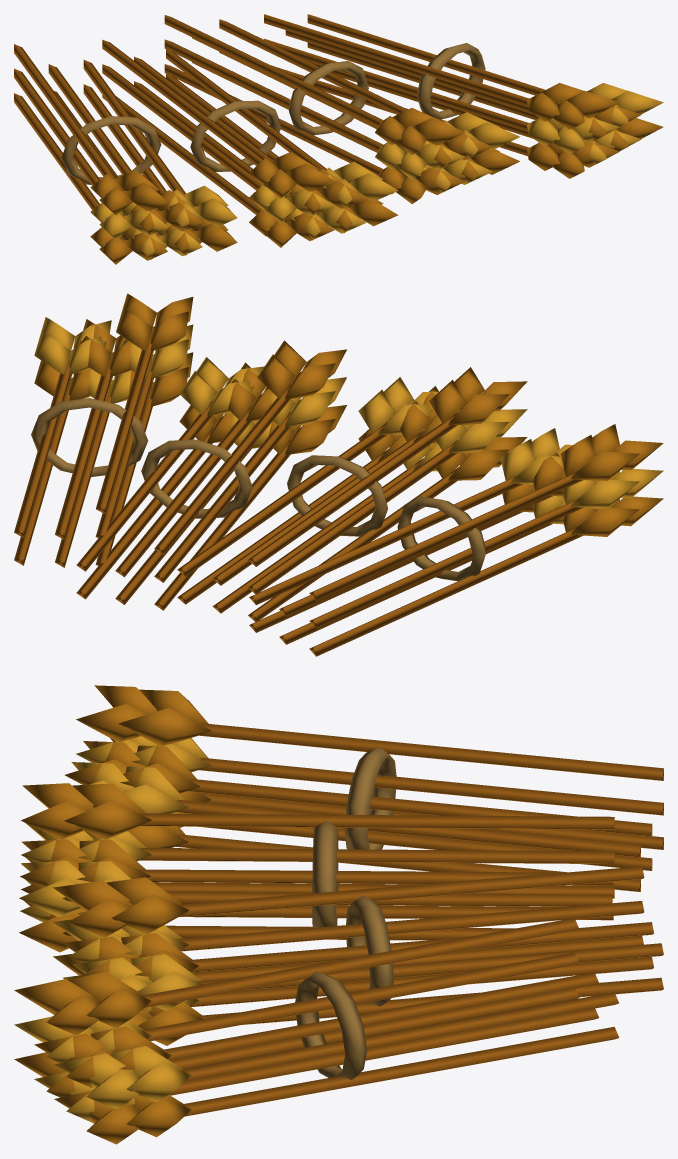
The model's file is pile-wheat-4.obj.
The picture shows the model from 3 angles, top to bottom: view 1: azimuth 30°, elevation 25°; view 2: azimuth 150°, elevation 25°; view 3: azimuth 270°, elevation 25°; orthographic projection. The views are drawn at different scales.
Parts seen in each view (by area): view 1: pile-wheat-4; view 2: pile-wheat-4; view 3: pile-wheat-4.
Boxes of the visible parts, <box> form: pile-wheat-4: <box>14,14,663,264</box>; pile-wheat-4: <box>14,293,663,656</box>; pile-wheat-4: <box>14,685,663,1144</box>.
Bounding box in the file's own units: 0.7706 × 0.1078 × 0.5618.
Materials: 1 (1 with a texture image).
